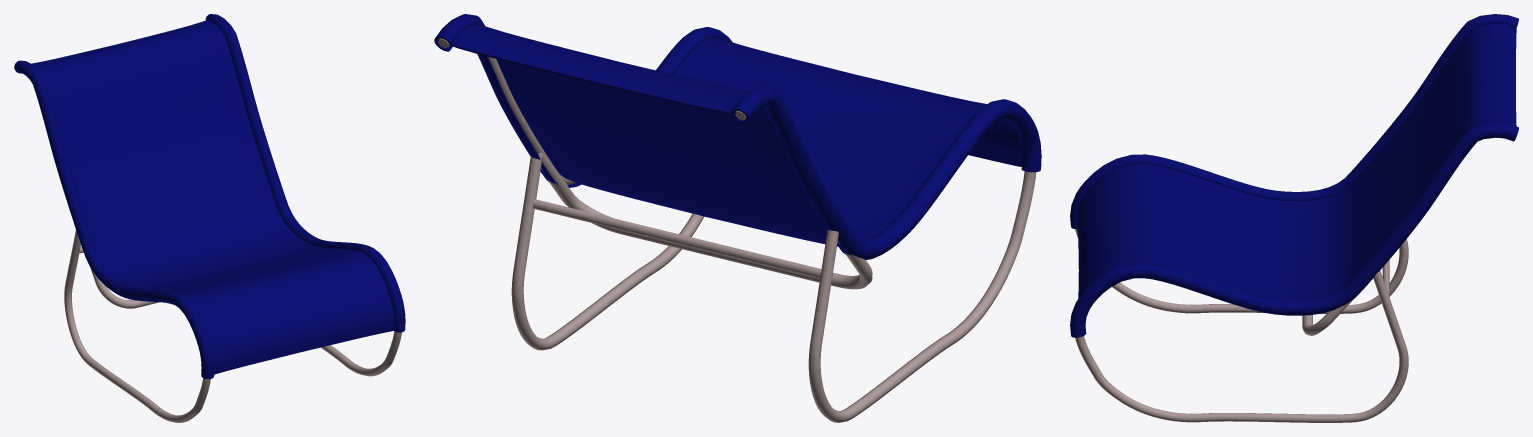
Rendered from IKEA-Emmabo_Rocking_Chair-Rocking-Chair-3D.FBX.
The picture shows the model from 3 angles, left to right: view 1: azimuth 30°, elevation 25°; view 2: azimuth 150°, elevation 25°; view 3: azimuth 270°, elevation 25°; orthographic projection. The views are drawn at different scales.
Visible parts, largest first — view 1: Loft02; view 2: Loft02; view 3: Loft02.
Boxes of the visible parts, left/top/right/bottom form: Loft02: left=14, top=14, right=405, bottom=422; Loft02: left=434, top=14, right=1041, bottom=422; Loft02: left=1070, top=14, right=1518, bottom=422.
Size of the model in its own units: 0.3872 by 0.637 by 0.4685.
